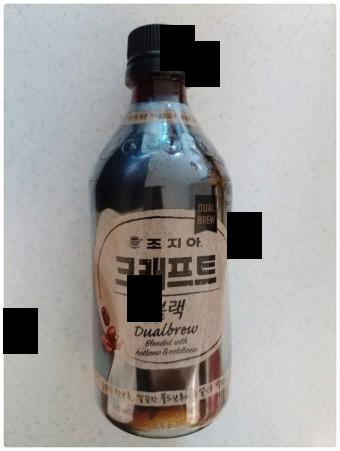georgiacraft_black: (83, 23, 256, 444)
